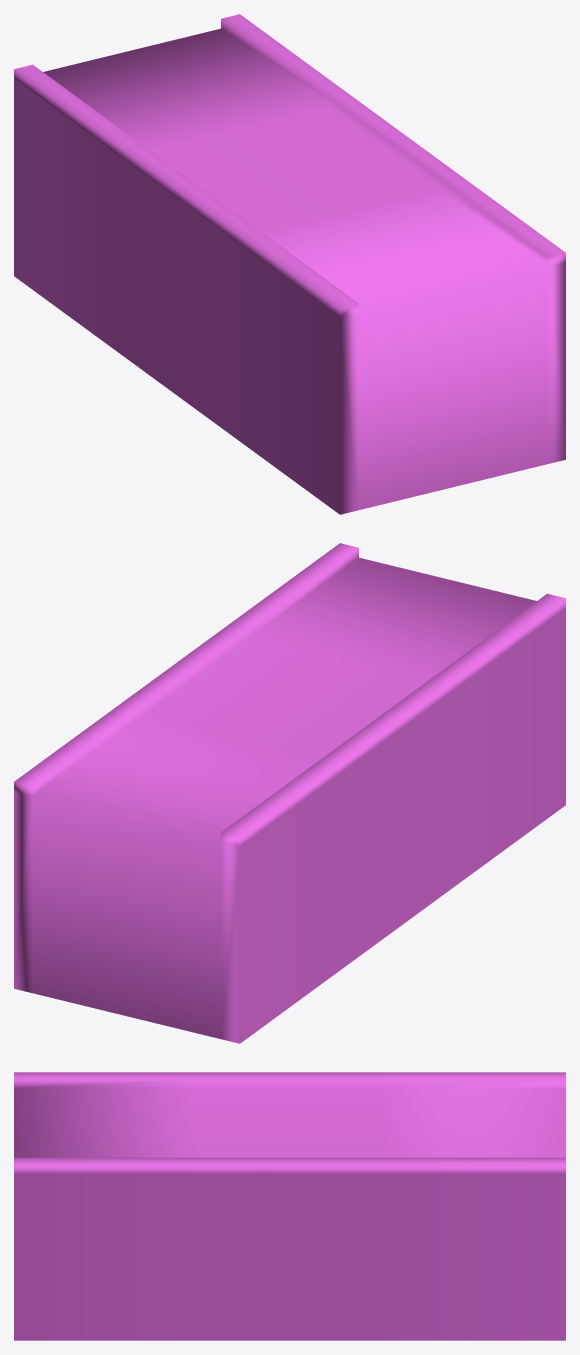
3 renders of one model, top to bottom at view 1: azimuth 30°, elevation 25°; view 2: azimuth 150°, elevation 25°; view 3: azimuth 270°, elevation 25°, orthographic. The views are drawn at different scales.
Parts seen in each view (by area): view 1: Mesh; view 2: Mesh; view 3: Mesh.
Part boxes in pixels (bbox=[...]): Mesh: bbox=[14, 14, 565, 514]; Mesh: bbox=[14, 543, 565, 1043]; Mesh: bbox=[14, 1072, 565, 1340].
Size of the model in its own units: 480 by 420 by 1200.
